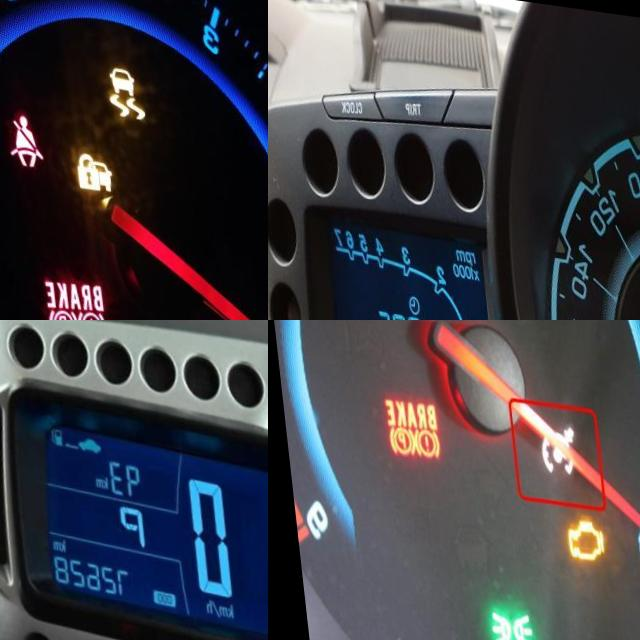SideLamp: (479, 604, 523, 640)
